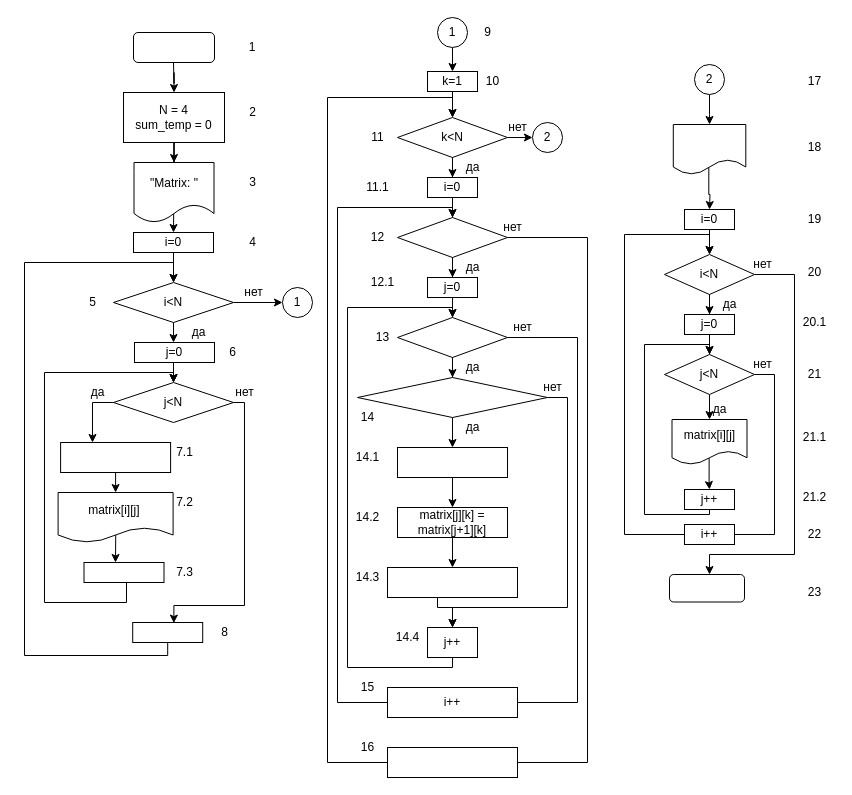
Some shapes in this 852 by 795 pixel diagram are drawn without their labels. Each missing label, with the box of its shape:
"sorted matrix:": (672, 124, 746, 174)
i<N-1: (396, 216, 508, 258)
i=i+1: (132, 622, 203, 642)
j<N-i-1: (396, 316, 508, 358)
j=j+1: (83, 562, 164, 582)
k=k+2: (386, 746, 518, 778)
matrix[i][j] = rand() % 100: (60, 442, 171, 472)
matrix[j+1][k] = temp: (386, 566, 518, 598)
matrix[j][k] > matrix[j+1][k]: (356, 376, 548, 418)
temp = matrix[j][k]: (396, 446, 508, 478)
конец: (668, 574, 744, 602)
начало: (132, 32, 214, 62)
